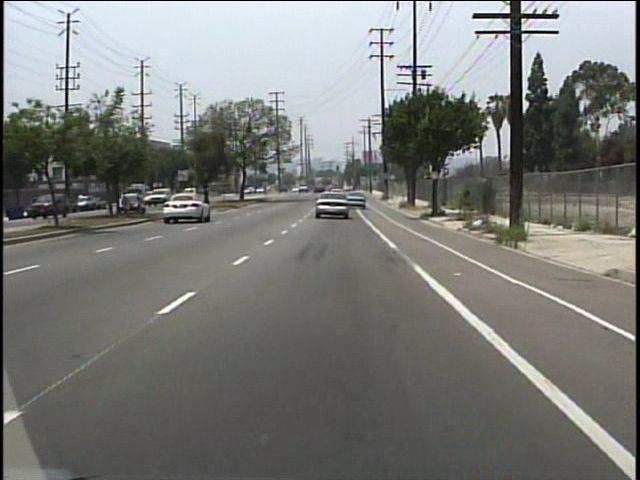person: (78, 192, 88, 213)
